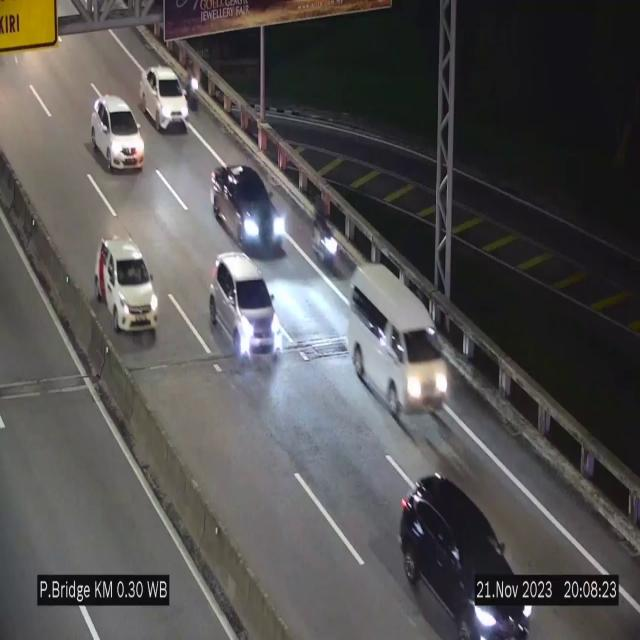Car: (400, 472, 536, 639), (351, 265, 449, 431), (209, 158, 289, 265), (209, 253, 280, 364), (98, 234, 158, 338), (91, 96, 145, 170), (140, 66, 188, 130)
Motorcycle: (312, 203, 339, 274), (186, 64, 202, 119)
